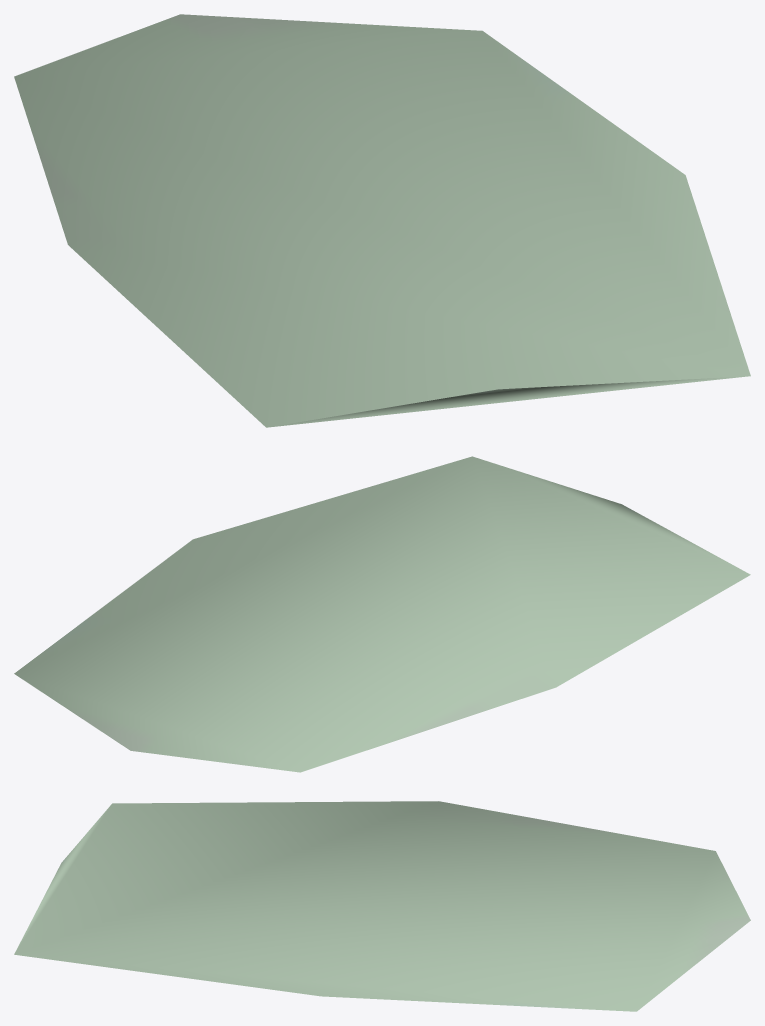
The model's file is TROLLHOLE02_HOLECAP154.fbx.
3 renders of one model, top to bottom at view 1: azimuth 30°, elevation 25°; view 2: azimuth 150°, elevation 25°; view 3: azimuth 270°, elevation 25°, orthographic. The views are drawn at different scales.
Visible parts, largest first — view 1: TROLLHOLE02_HOLECAP154; view 2: TROLLHOLE02_HOLECAP154; view 3: TROLLHOLE02_HOLECAP154.
Part boxes in pixels (x1=…): TROLLHOLE02_HOLECAP154: x1=14, y1=14, x2=750, y2=427; TROLLHOLE02_HOLECAP154: x1=14, y1=456, x2=750, y2=772; TROLLHOLE02_HOLECAP154: x1=14, y1=801, x2=750, y2=1011.
Size of the model in its own units: 31706 by 1013 by 48011.
Materials: 1 (1 with a texture image).
